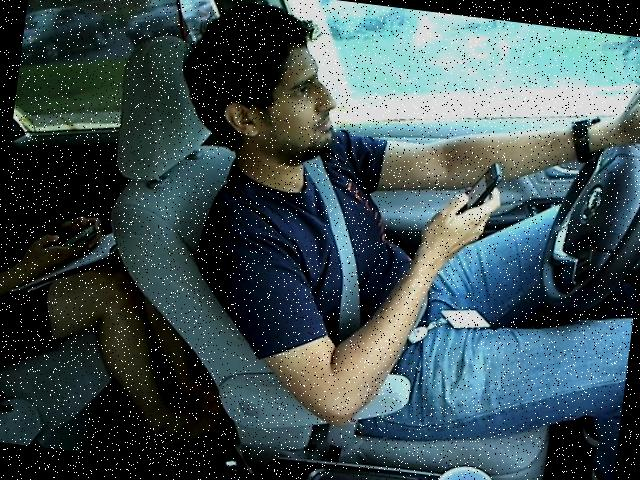c1 - Texting: (134, 0, 639, 455)
